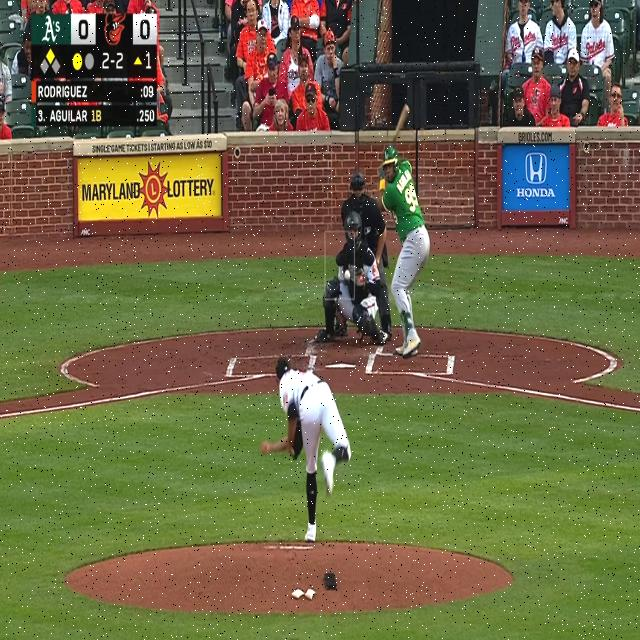baseball: (344, 270, 351, 280)
